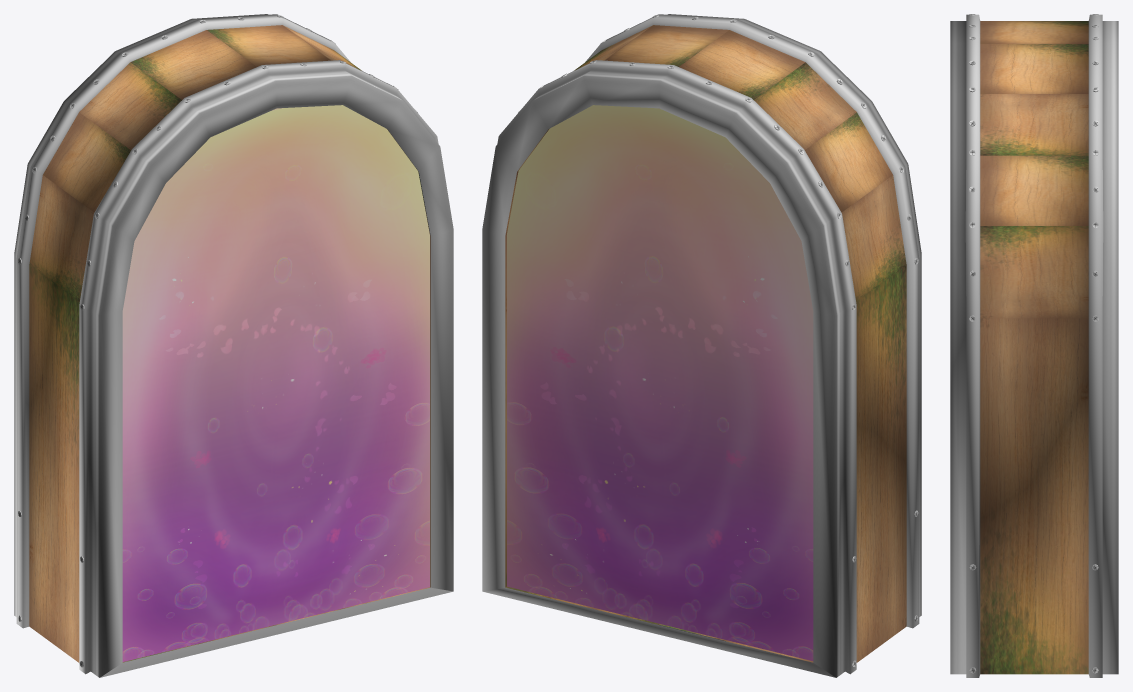
The model's file is Portal_Archway-LightWood.fbx.
The picture shows the model from 3 angles, left to right: view 1: azimuth 30°, elevation 25°; view 2: azimuth 150°, elevation 25°; view 3: azimuth 270°, elevation 25°; orthographic projection.
Parts seen in each view (by area): view 1: Portal_Door_Arch_Fairy, Portal_Archway-LightWood; view 2: Portal_Door_Arch_Fairy, Portal_Archway-LightWood; view 3: Portal_Archway-LightWood.
Part boxes in pixels (x1=…): Portal_Door_Arch_Fairy: x1=122, y1=105, x2=429, y2=661; Portal_Archway-LightWood: x1=14, y1=14, x2=453, y2=677; Portal_Door_Arch_Fairy: x1=507, y1=105, x2=813, y2=660; Portal_Archway-LightWood: x1=482, y1=14, x2=921, y2=677; Portal_Archway-LightWood: x1=950, y1=14, x2=1118, y2=677.
Bounding box in the file's own units: 646 × 939 × 259.
2 materials, 2 textured.
